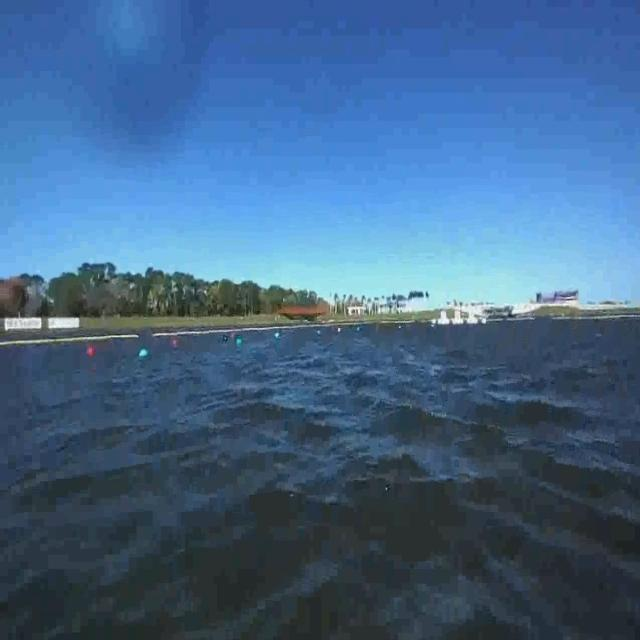green-buoy: (135, 347, 152, 363)
red-buoy: (84, 342, 98, 360)
